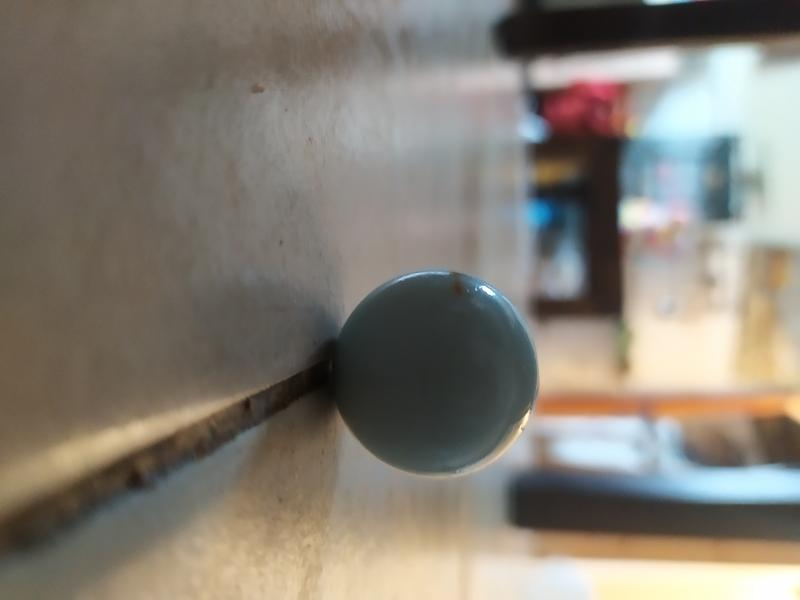Warning: (325, 262, 545, 484)
